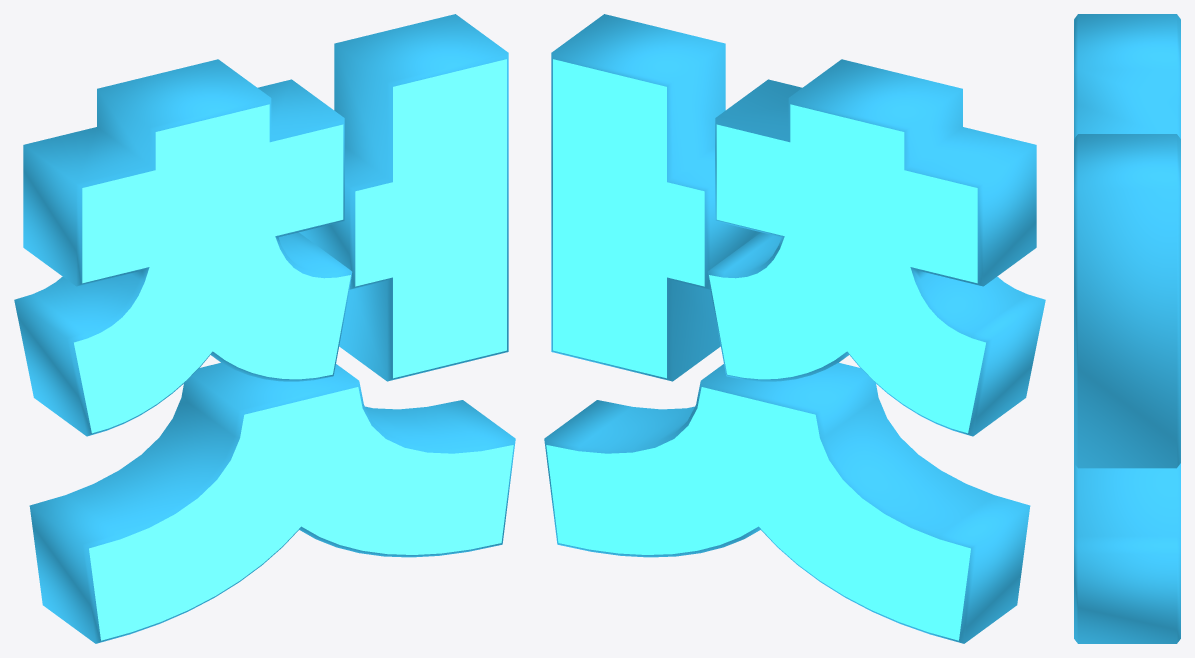
The model's file is u_ccab_b.glb.
3 renders of one model, left to right at view 1: azimuth 30°, elevation 25°; view 2: azimuth 150°, elevation 25°; view 3: azimuth 270°, elevation 25°, orthographic. The views are drawn at different scales.
Visible parts, largest first — view 1: glyph; view 2: glyph; view 3: glyph.
Part boxes in pixels (left/top/right/bottom): glyph: left=14, top=14, right=515, bottom=643; glyph: left=544, top=14, right=1045, bottom=643; glyph: left=1074, top=14, right=1180, bottom=643.
Bounding box in the file's own units: 0.0733 × 0.0786 × 0.0162.
